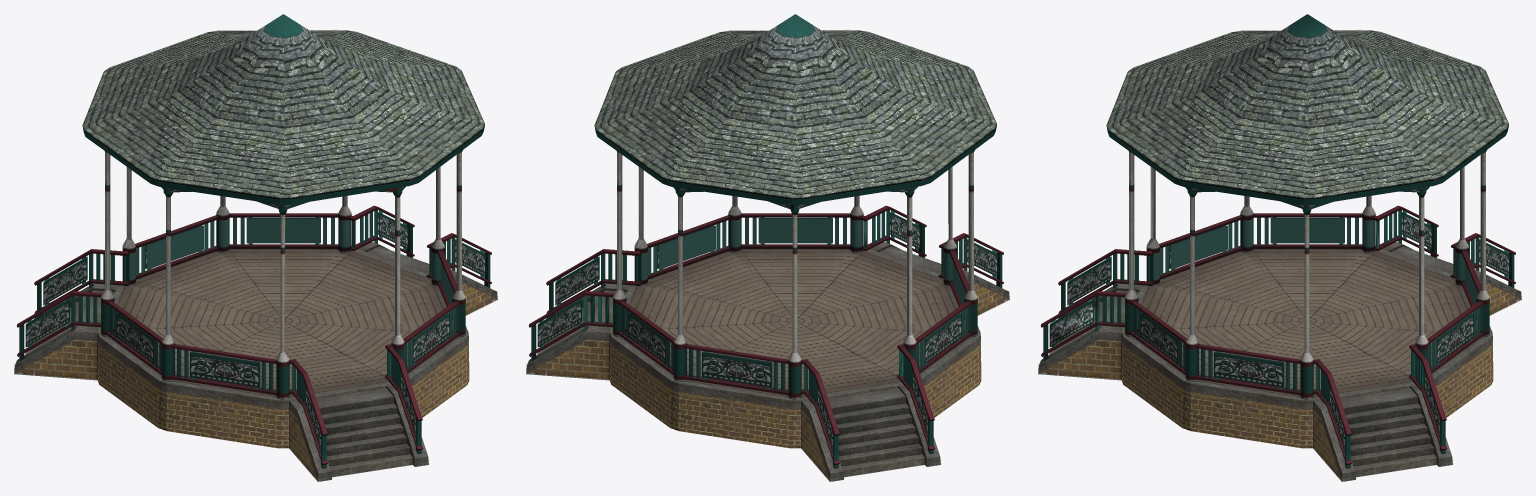
The model's file is VP_park_Bandstand_OPT.fbx.
3 views of the same model, side by side, from view 1: azimuth 30°, elevation 25°; view 2: azimuth 150°, elevation 25°; view 3: azimuth 270°, elevation 25° (orthographic).
Visible parts, largest first — view 1: VP_park_Bandstand; view 2: VP_park_Bandstand; view 3: VP_park_Bandstand.
Part boxes in pixels (x1,y1,x2,y2): VP_park_Bandstand: [14, 14, 497, 481]; VP_park_Bandstand: [526, 14, 1009, 481]; VP_park_Bandstand: [1038, 14, 1521, 481].
Size of the model in its own units: 953 by 737 by 910.
